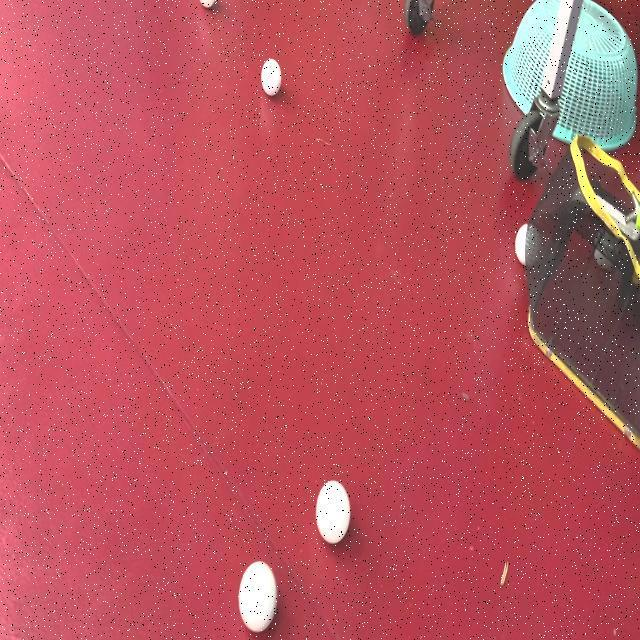ping-pong-ball: (238, 558, 280, 638), (314, 478, 352, 546), (258, 54, 284, 100)
